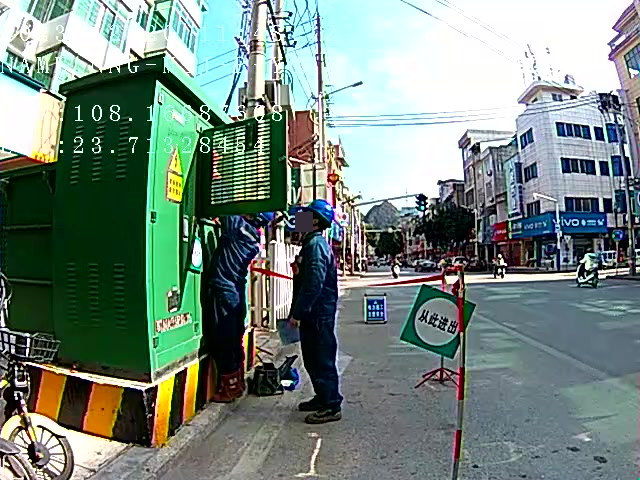downsuit: (290, 318, 341, 406), (211, 291, 249, 376)
halt: (293, 199, 336, 237), (243, 212, 274, 228)
hand: (288, 317, 305, 327)
inear: (307, 212, 324, 231)
intosign: (395, 282, 478, 360)
person: (285, 198, 348, 424), (209, 205, 271, 405)
shoe: (212, 367, 245, 403)
upsuit: (208, 214, 264, 290), (290, 235, 340, 318)
worksign: (187, 234, 206, 274)
